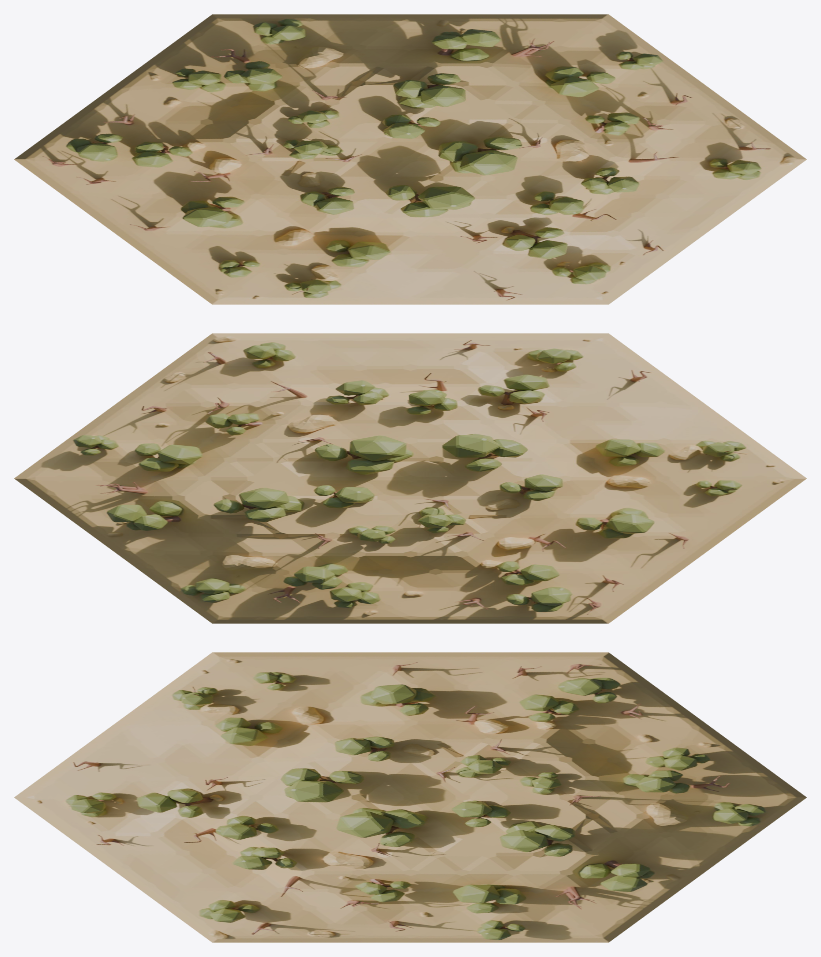
Rendered from shrubland.glb.
3 renders of one model, top to bottom at view 1: azimuth 30°, elevation 25°; view 2: azimuth 150°, elevation 25°; view 3: azimuth 270°, elevation 25°, orthographic.
Visible parts, largest first — view 1: Deciduousforest_flat; view 2: Deciduousforest_flat; view 3: Deciduousforest_flat.
Boxes of the visible parts, left/top/right/bottom form: Deciduousforest_flat: left=14, top=14, right=806, bottom=304; Deciduousforest_flat: left=14, top=333, right=806, bottom=623; Deciduousforest_flat: left=14, top=652, right=806, bottom=942.
Size of the model in its own units: 1.73 by 0 by 2.
Materials: 1 (1 with a texture image).
